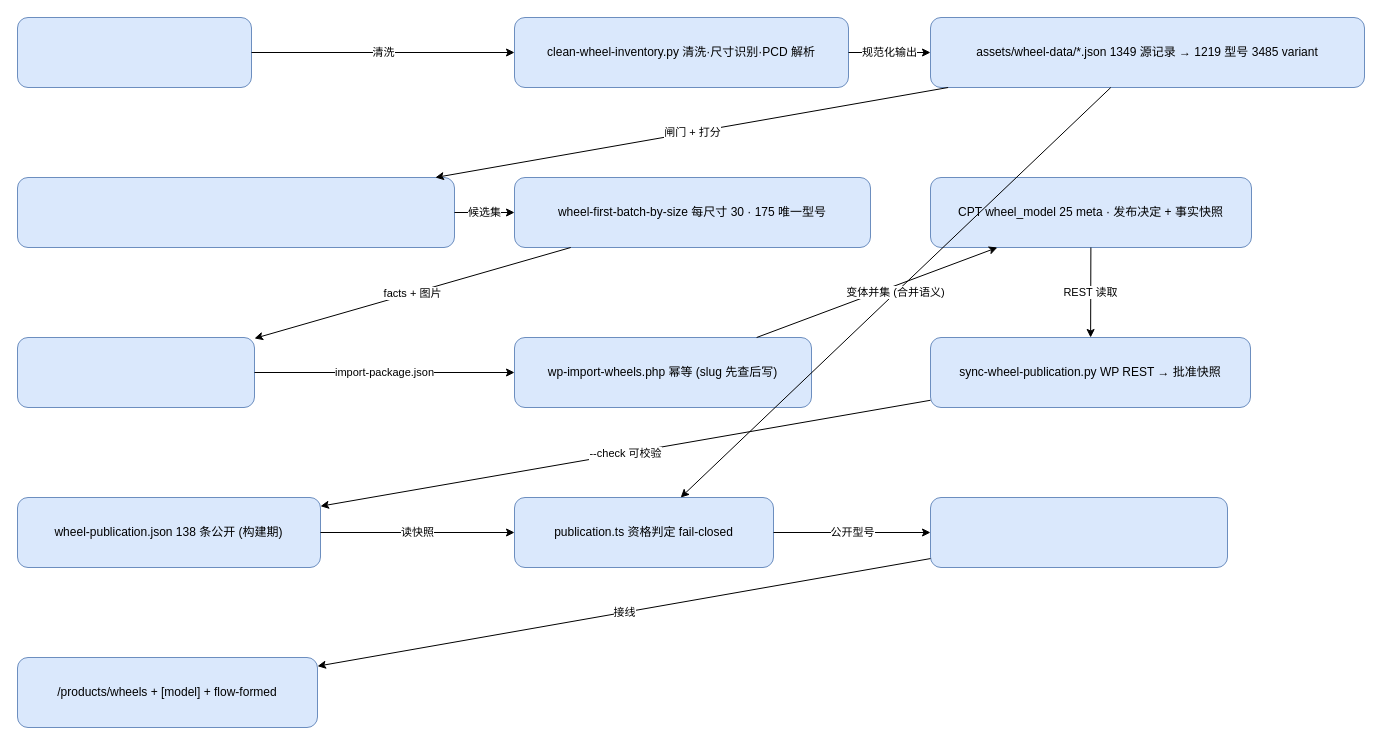
Image size: 1382x745. Some labels were removed from this diagram. Each missing label, with the box of its shape:
build-wheel-import.py 生成导入包: (16, 336, 254, 408)
inbox/ 蓝辉轮毂库存 xlsx 6109 行: (16, 16, 252, 88)
public-catalogue.ts 筛选·排序·分页·facets: (930, 496, 1228, 568)
select-wheel-first-batch.py 闸门: 有图/规格全/无商标 打分 0-100: (16, 176, 454, 248)
